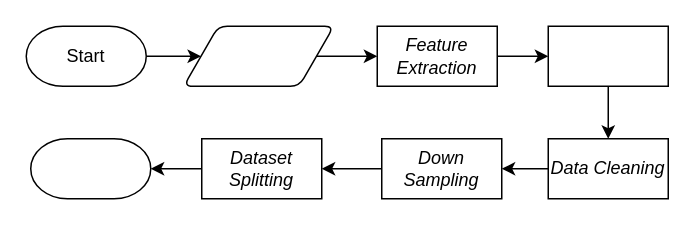
This 695x225 diagram has some shape labels left out. Here are the shapes that lost their labels. From the top down, the centre of each, then its label:
[258,55]: Input Files
[607,55]: Dataframe Making
[90,168]: End
